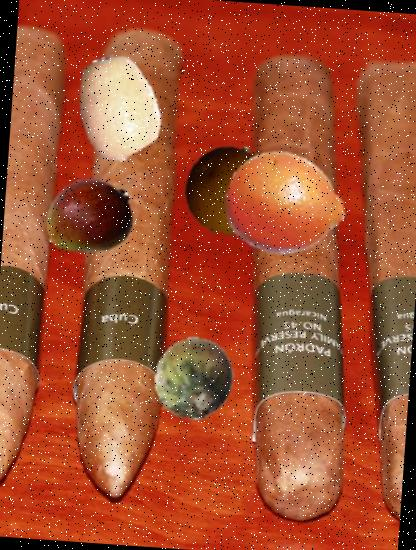Cactus: (150, 334, 240, 424)
Kumquats: (62, 52, 174, 164)
Mango: (40, 168, 138, 266)
Orange: (180, 141, 279, 239)
Tangelo: (221, 141, 349, 269)
